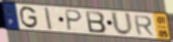B: (84, 10, 107, 34)
G: (20, 5, 40, 29)
I: (44, 6, 54, 31)
P: (65, 9, 84, 32)
R: (133, 15, 156, 37)
U: (110, 10, 135, 37)
